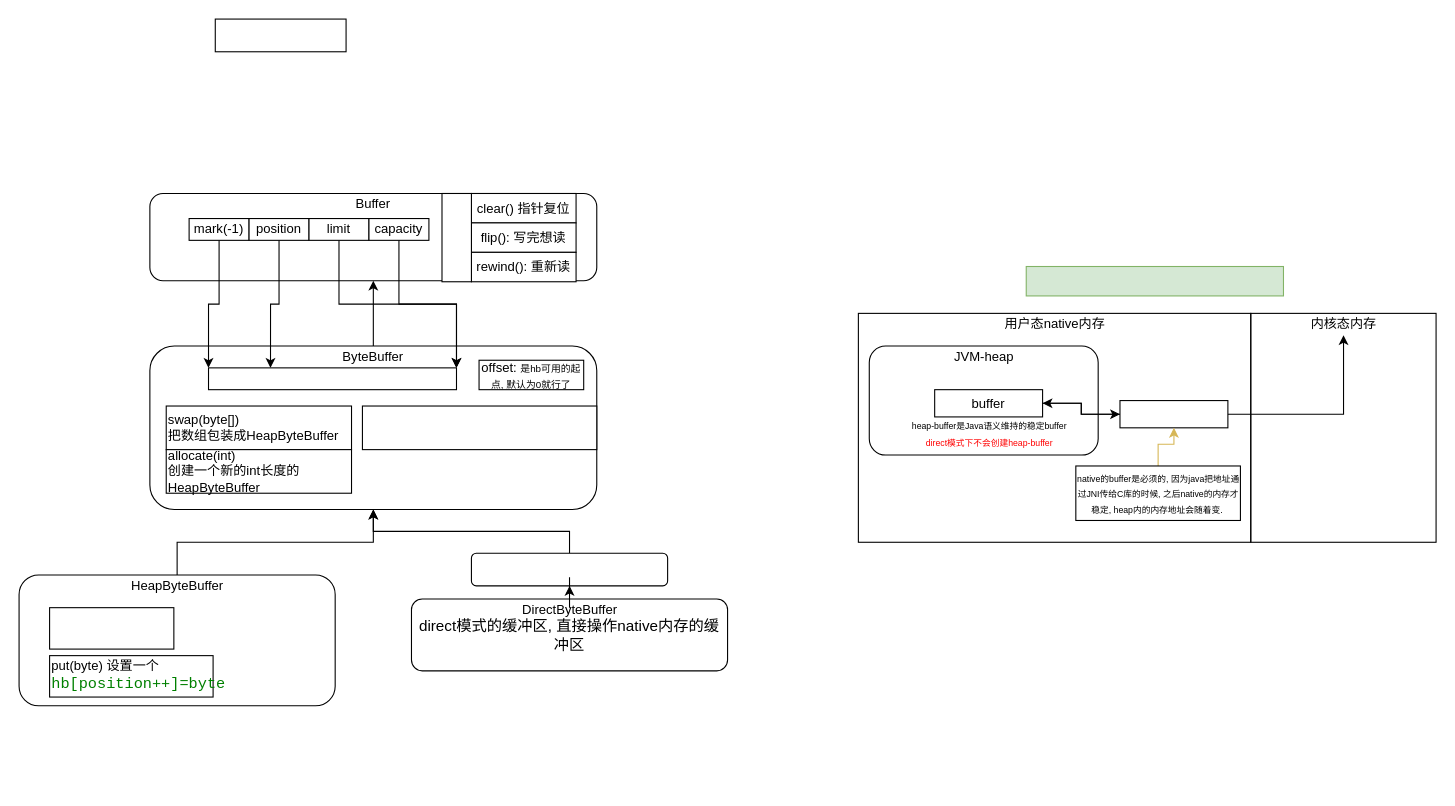
The diagram is 1455 pixels wide and 806 high, and some of its shapes have lost their labels. Here are the shapes that lost their labels. From the top down, the centre of each, then its label:
At (280,35): "Buffer原理".
At (456,237): "指针操作方法".
At (1154,280): "directBuffer和heapBuffer".
At (331,378): "hb: byte[], heapBuffer的存储".
At (479,427): "allocateDirect(int) 创建一个新的int长度的DirectByteBuffer".
At (1173,413): "buffer(native的)".
At (569,569): "MappedByteBuffer".
At (111,628): "get() 拿出一个来 hb[position++]".
